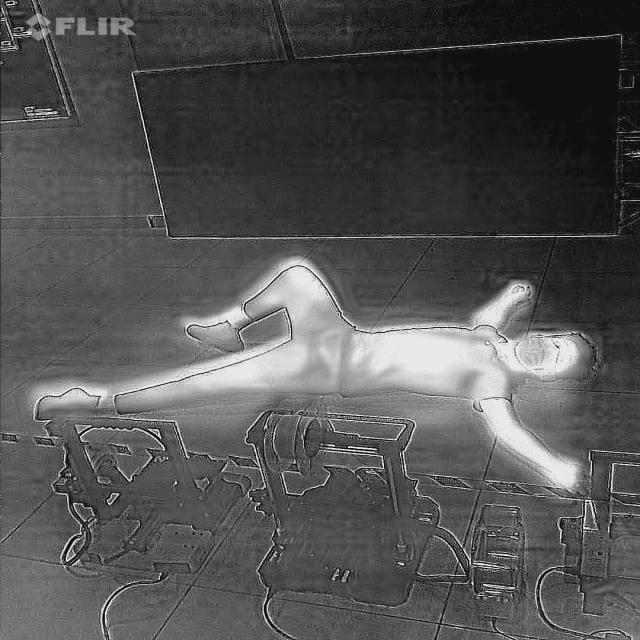Victim: (24, 256, 601, 502)
